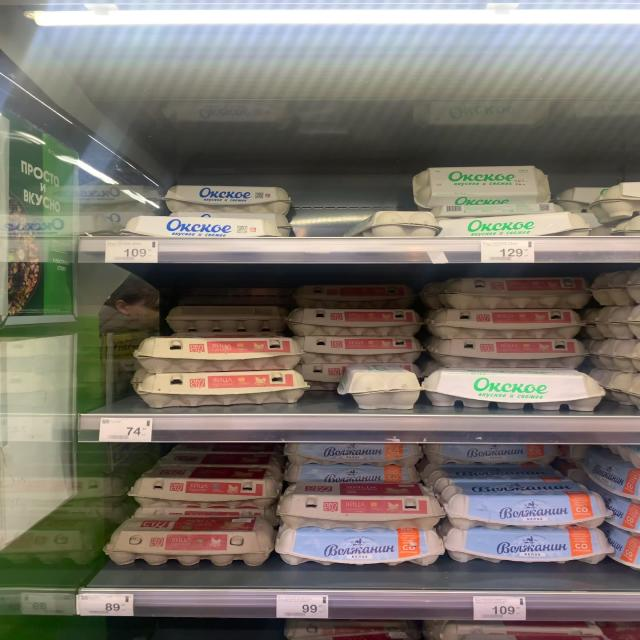egg box: (101, 511, 271, 565), (420, 365, 606, 410), (438, 483, 608, 529), (270, 527, 443, 569), (423, 325, 586, 369), (446, 524, 612, 565), (122, 468, 280, 508), (128, 371, 308, 404), (409, 163, 547, 206), (135, 335, 305, 369), (274, 493, 446, 526), (428, 274, 592, 308), (428, 308, 583, 341), (284, 304, 424, 337), (298, 329, 424, 364), (284, 457, 424, 488), (123, 214, 289, 240), (286, 436, 424, 467), (160, 184, 290, 215), (428, 437, 561, 466), (438, 214, 598, 236), (297, 278, 415, 306), (149, 447, 282, 468)
